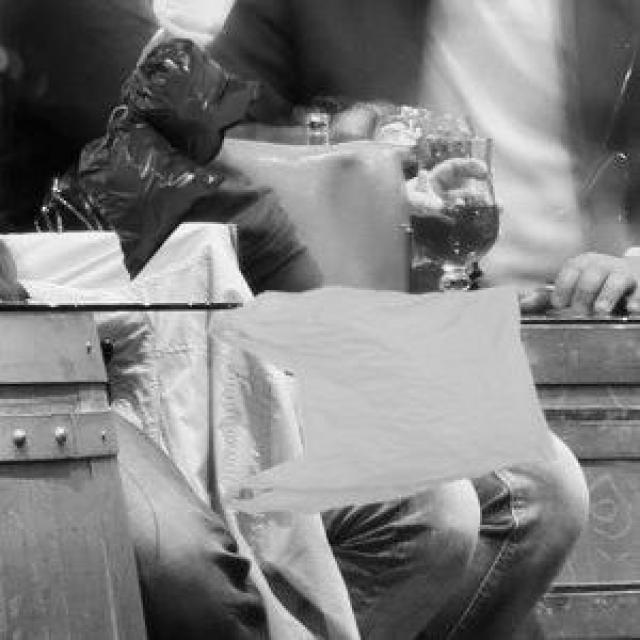miscellaneous trash: (75, 24, 258, 273)
